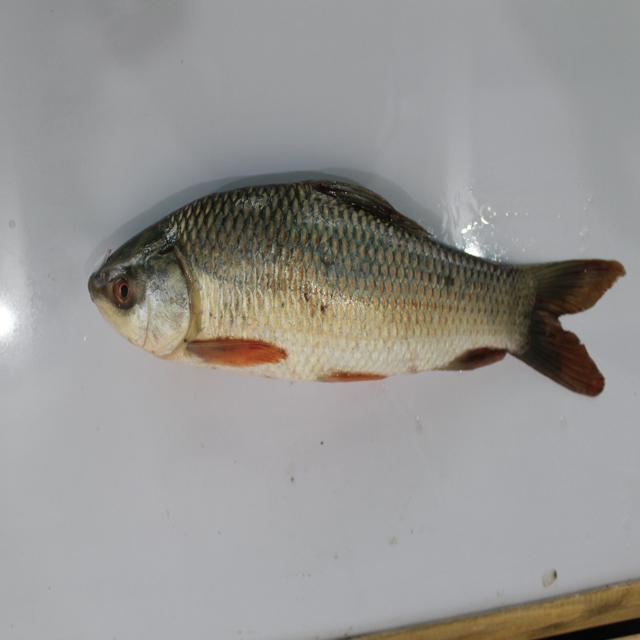Rohu: (76, 171, 623, 408)
